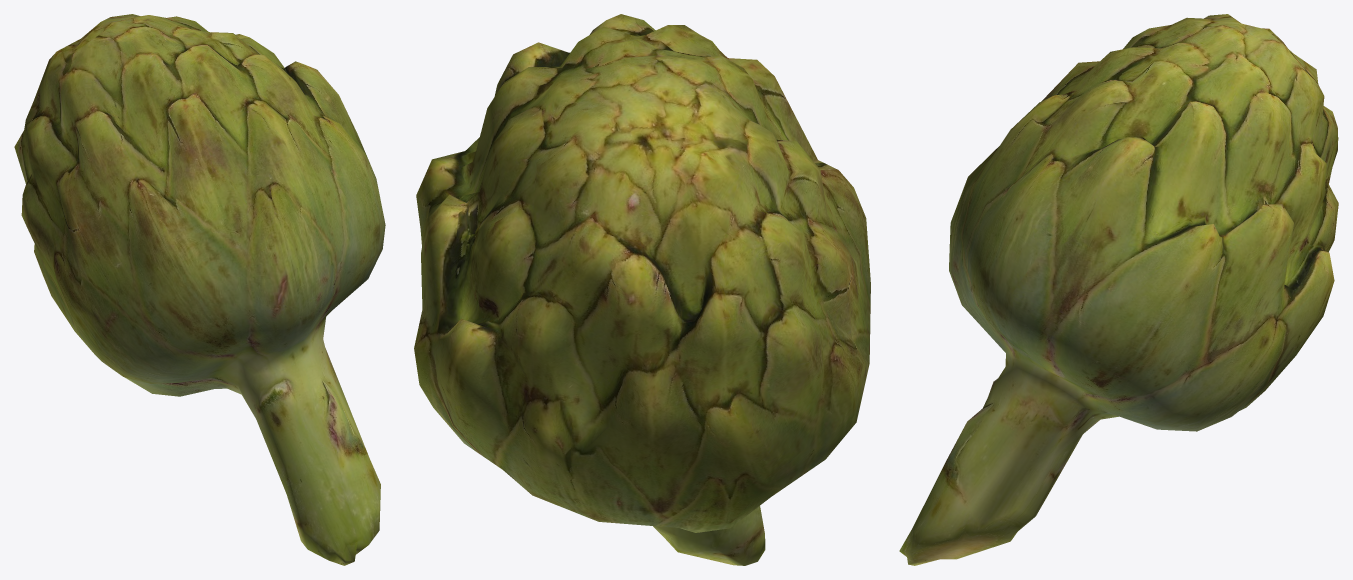
The model's file is GreenVegetableArtichoke.fbx.
3 views of the same model, side by side, from view 1: azimuth 30°, elevation 25°; view 2: azimuth 150°, elevation 25°; view 3: azimuth 270°, elevation 25° (orthographic). The views are drawn at different scales.
Parts seen in each view (by area): view 1: Artichoke; view 2: Artichoke; view 3: Artichoke.
Boxes of the visible parts, x1=… form: Artichoke: x1=14, y1=14, x2=385, y2=565; Artichoke: x1=414, y1=14, x2=870, y2=565; Artichoke: x1=899, y1=14, x2=1338, y2=565.
Size of the model in its own units: 0.0893 by 0.1033 by 0.1309.
Materials: 1 (1 with a texture image).
